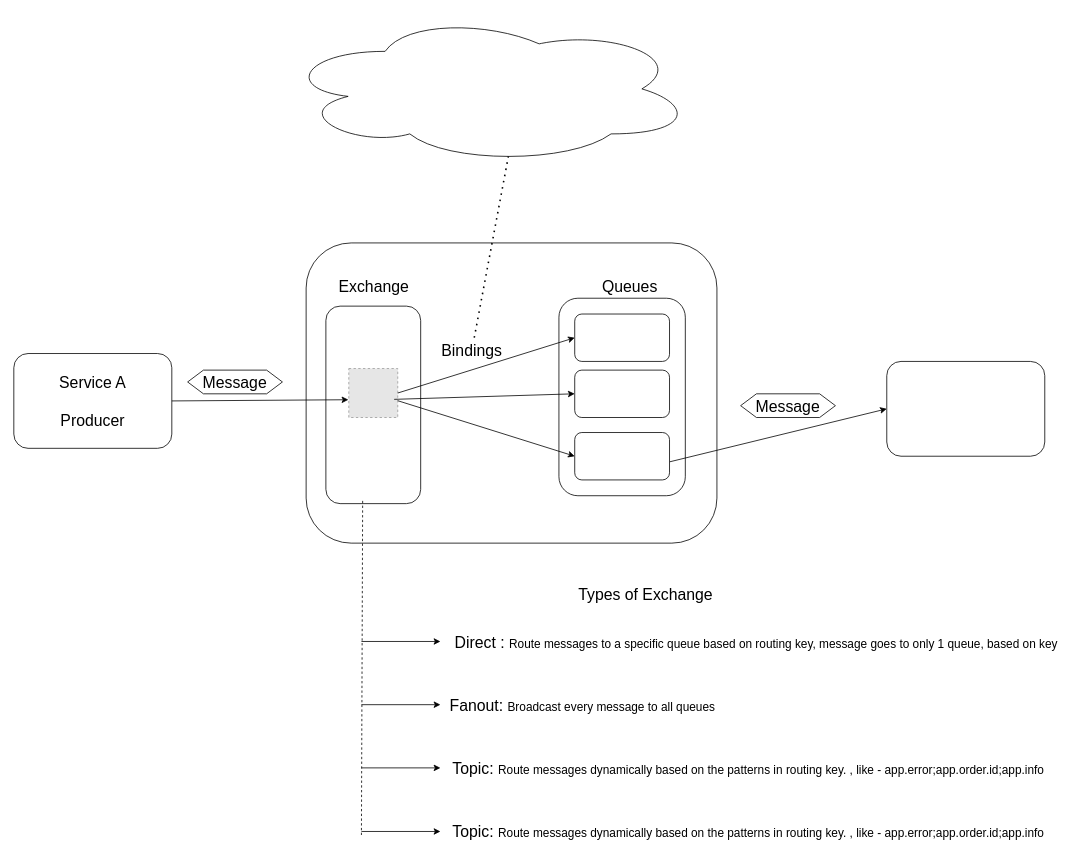
Image size: 1078x857. Some labels were removed from this diagram. Grey dashed boxes stand in for pictures. Each missing label, with the box of its shape:
Bindings tell the exchange , to which queue the message should be passed: (282, 13, 693, 164)
Service B Consumer: (886, 361, 1045, 456)
